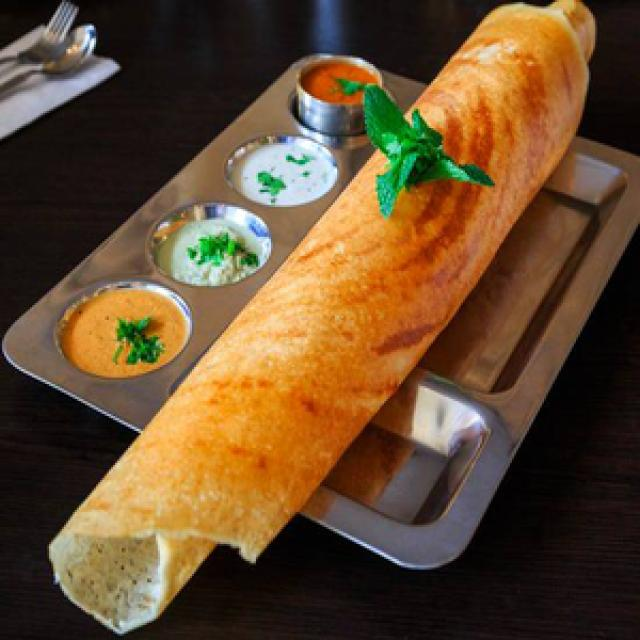dosa: (33, 0, 621, 640)
